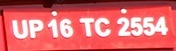character: (11, 19, 28, 39), (93, 17, 110, 37), (78, 17, 94, 37), (28, 18, 43, 38), (116, 17, 131, 36), (59, 18, 73, 37), (130, 16, 143, 36), (155, 16, 168, 35), (143, 17, 155, 36), (47, 18, 58, 38)
